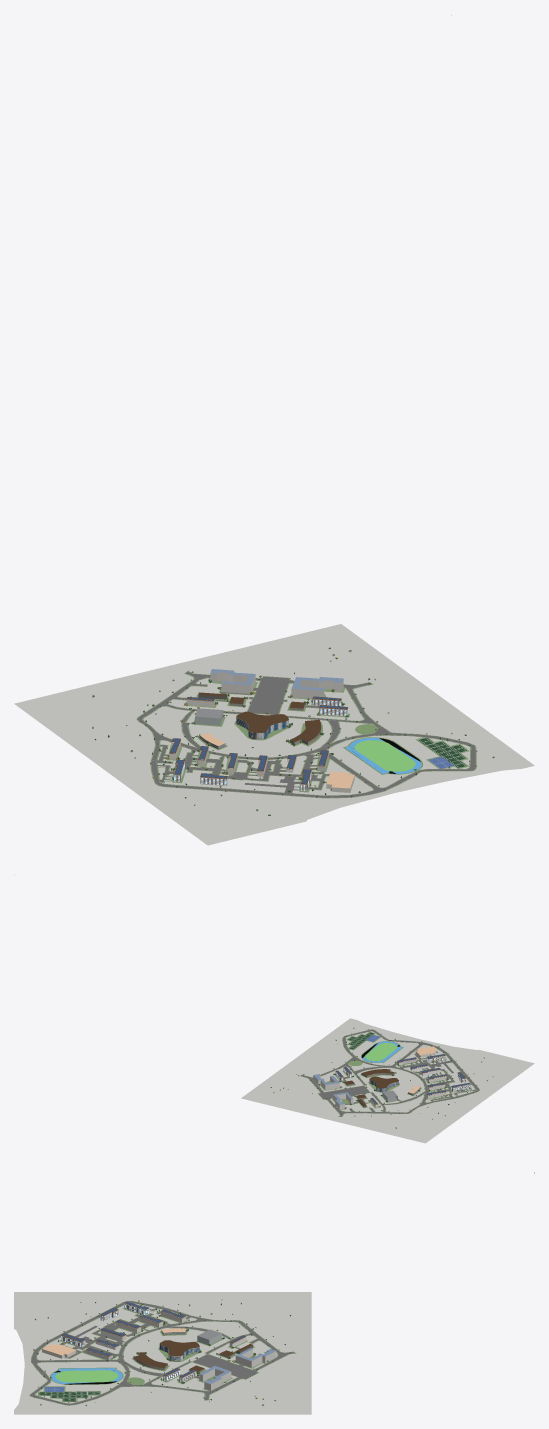
Rendered from hnjcxy_baked.glb.
3 views of the same model, one above another, from view 1: azimuth 30°, elevation 25°; view 2: azimuth 150°, elevation 25°; view 3: azimuth 270°, elevation 25° (orthographic). The views are drawn at different scales.
Visible parts, largest first — view 1: Ground_Base, Green_Accents, 47, 27, 11; view 2: Ground_Base, Green_Accents, 47, 27; view 3: Ground_Base, Green_Accents, 47, 27, 11, 46, 52, 44, 45, 22, 24, Curb_MainRoads (+1 smaller).
Part boxes in pixels (x1,y1,x2,y2): Ground_Base: (14, 624, 534, 845); Green_Accents: (136, 671, 476, 798); 47: (151, 727, 406, 797); 27: (354, 740, 415, 771); 11: (236, 711, 288, 739); Ground_Base: (241, 1018, 534, 1143); Green_Accents: (300, 1029, 479, 1116); 47: (349, 1040, 479, 1098); 27: (365, 1043, 397, 1061); Ground_Base: (14, 1292, 311, 1414); Green_Accents: (29, 1301, 296, 1405); 47: (31, 1301, 168, 1387); 27: (55, 1370, 118, 1382); 11: (159, 1340, 199, 1361); 46: (119, 1309, 246, 1358); 52: (197, 1356, 257, 1379); 44: (206, 1325, 294, 1370); 45: (133, 1361, 239, 1399); 22: (235, 1348, 262, 1367); 24: (199, 1366, 231, 1382); Curb_MainRoads: (30, 1301, 293, 1405).
Bounding box in the file's own units: 1391 × 1003 × 1401.
Materials: 145 (112 with a texture image).
